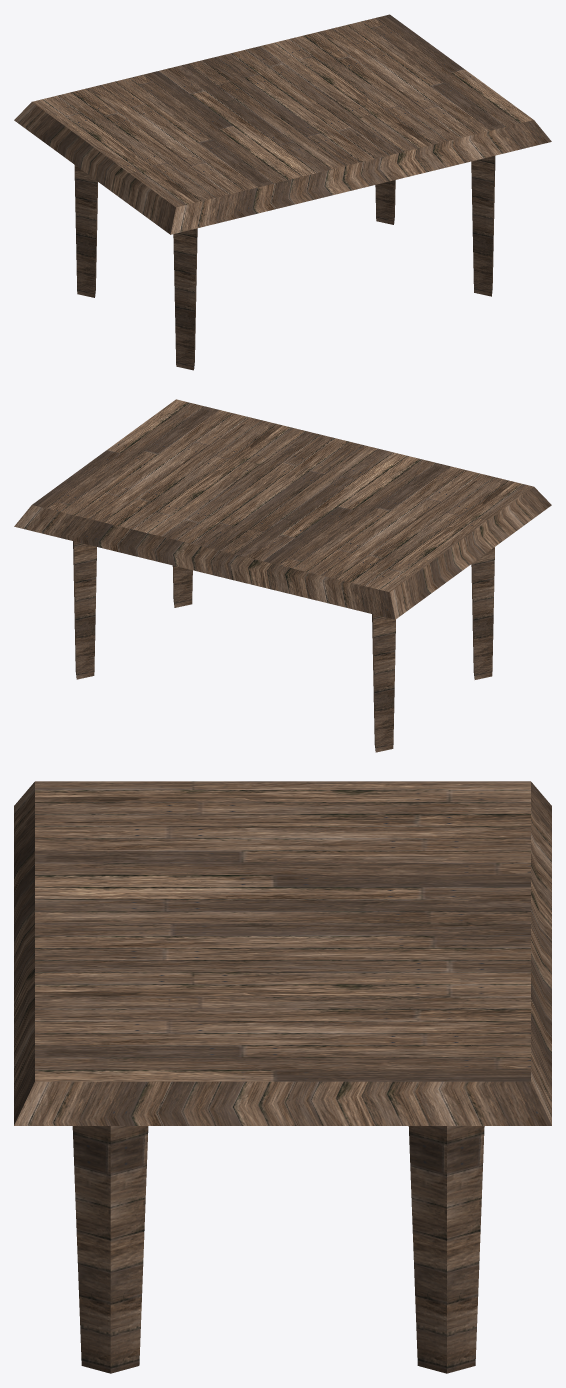
Rendered from Table.dae.
3 renders of one model, top to bottom at view 1: azimuth 30°, elevation 25°; view 2: azimuth 150°, elevation 25°; view 3: azimuth 270°, elevation 25°, orthographic. The views are drawn at different scales.
Parts seen in each view (by area): view 1: wrld_table_short; view 2: wrld_table_short; view 3: wrld_table_short.
Boxes of the visible parts, x1,y1,x2,y2 form: wrld_table_short: (14,14,551,370); wrld_table_short: (14,399,551,752); wrld_table_short: (14,781,551,1373).
Bounding box in the file's own units: 4.2 × 2.99 × 1.89.
1 material, 1 textured.
